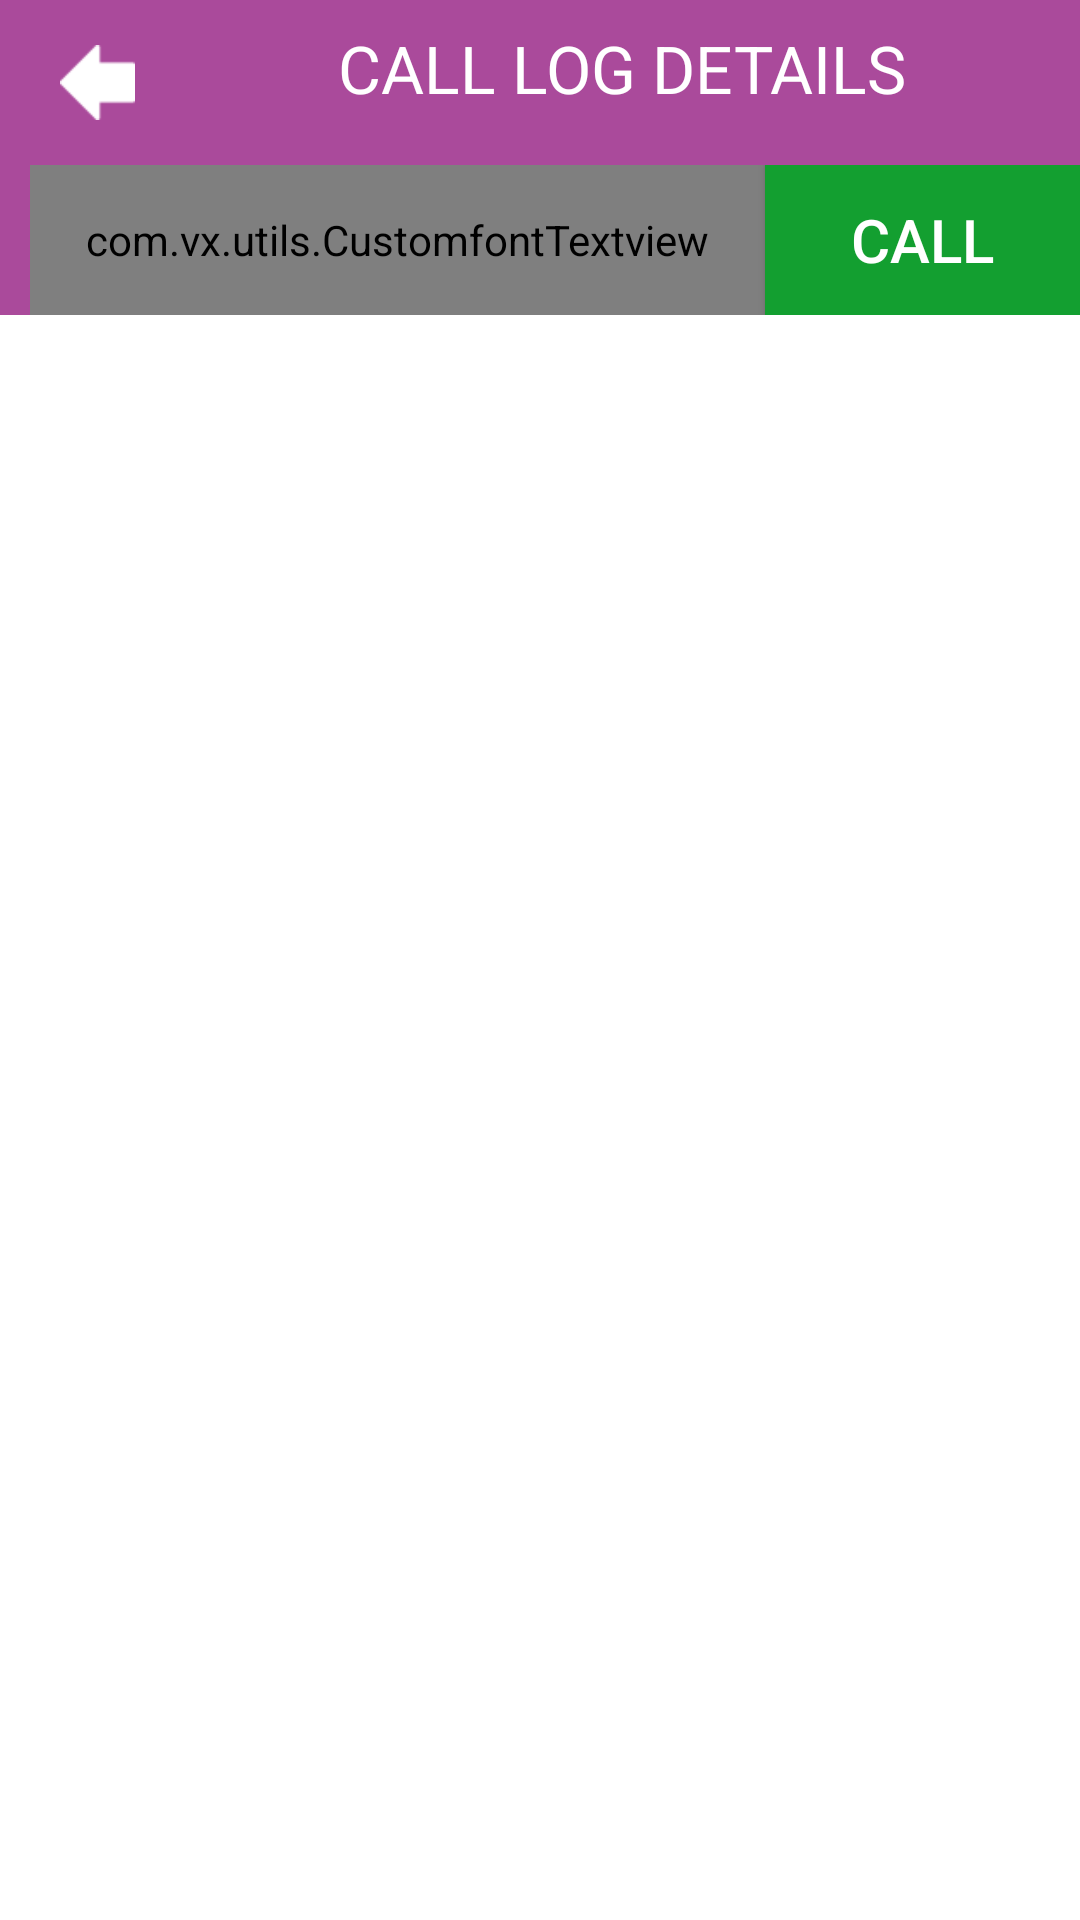

Icons on this 1080×1920 Android screen, each with the point to tap as (x,y):
details backbutton: (97,82)
